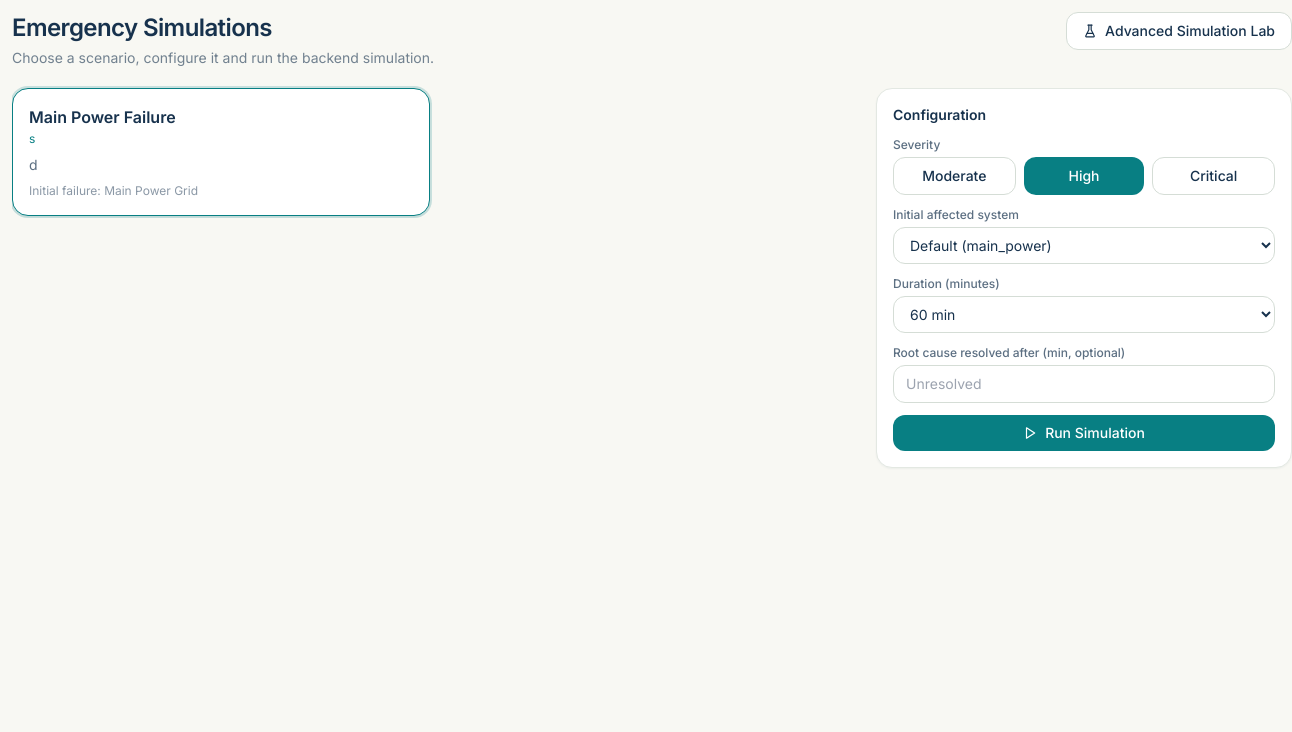
PulseGrid UI › simulations page submits a run to the backend and shows errors
Click the button "Run Simulation".
click(1084, 433)  # box x1=893 y1=415 x2=1275 y2=451
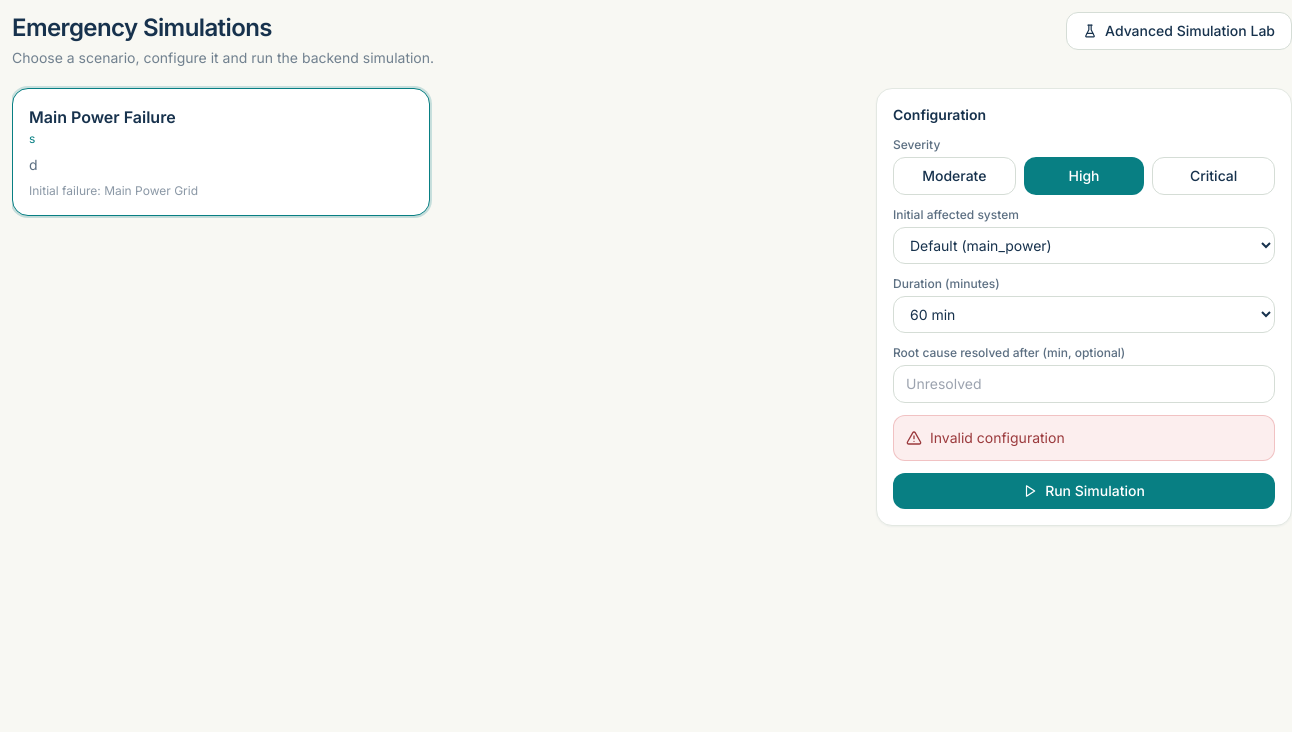
Expected: the message reads "Invalid configuration", x1=930 y1=429 x2=1065 y2=446
